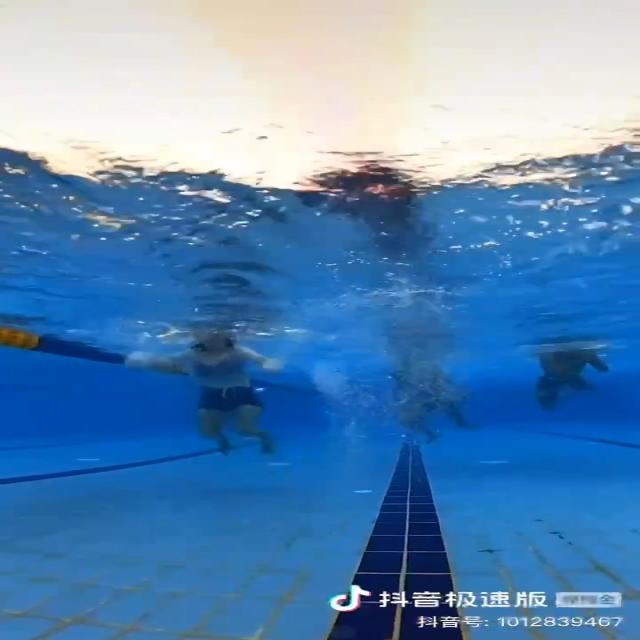Swimming: (151, 331, 292, 458), (538, 342, 612, 412)
